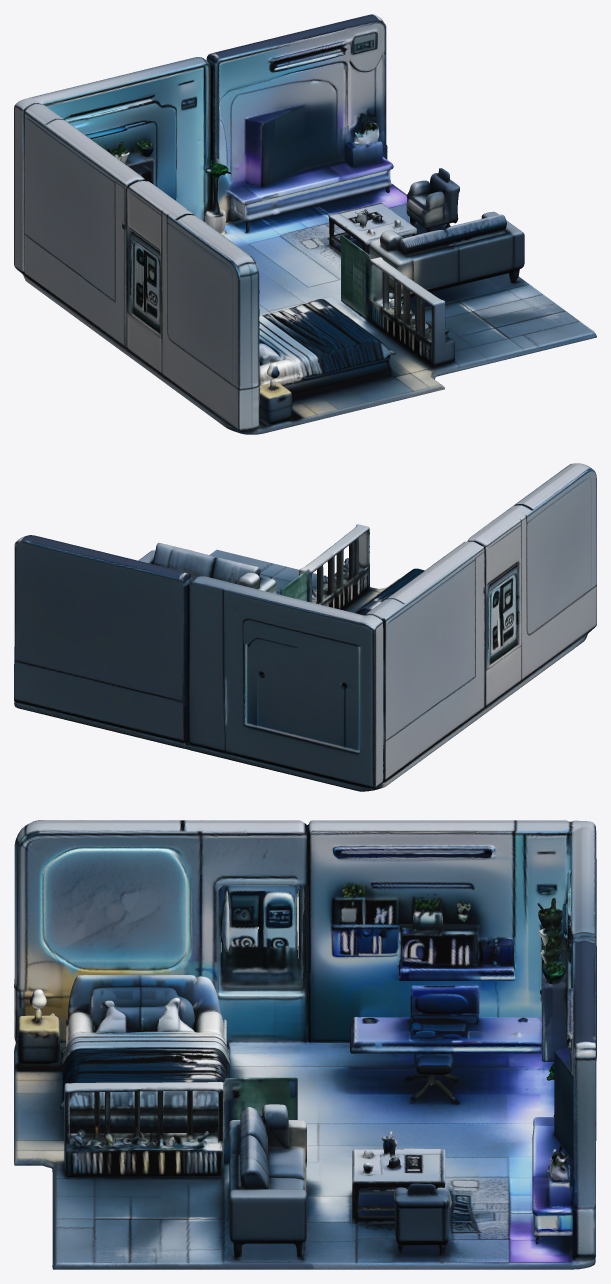
Rendered from 未来室内3d模型.glb.
The picture shows the model from 3 angles, top to bottom: view 1: azimuth 30°, elevation 25°; view 2: azimuth 150°, elevation 25°; view 3: azimuth 270°, elevation 25°; orthographic projection. The views are drawn at different scales.
Visible parts, largest first — view 1: tripo_node_060afb29-ad92-4c96-824d-75d85dfe790a; view 2: tripo_node_060afb29-ad92-4c96-824d-75d85dfe790a; view 3: tripo_node_060afb29-ad92-4c96-824d-75d85dfe790a.
Part boxes in pixels (x1=…): tripo_node_060afb29-ad92-4c96-824d-75d85dfe790a: x1=14, y1=14, x2=596, y2=434; tripo_node_060afb29-ad92-4c96-824d-75d85dfe790a: x1=14, y1=463, x2=596, y2=791; tripo_node_060afb29-ad92-4c96-824d-75d85dfe790a: x1=14, y1=820, x2=596, y2=1269.
Size of the model in its own units: 0.9457 by 0.421 by 1.
1 material, 1 textured.
